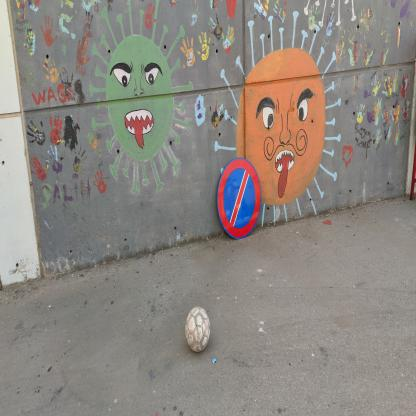No Waiting: (218, 158, 263, 240)
